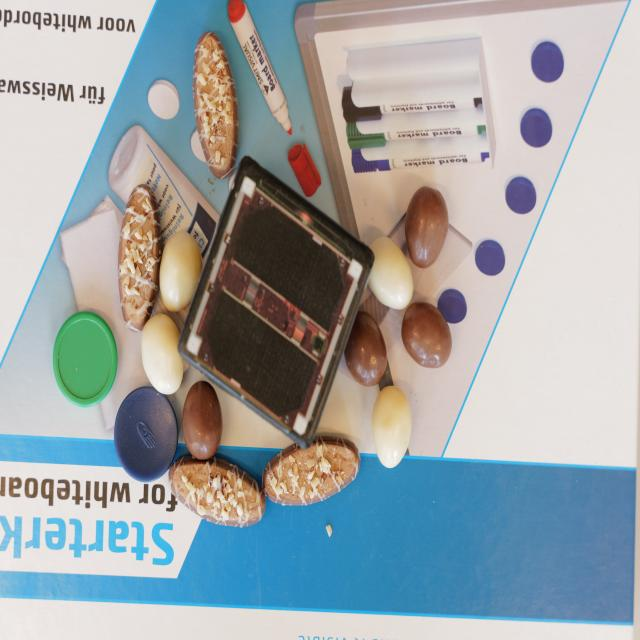Amandina: (193, 30, 240, 180), (265, 434, 359, 504), (120, 183, 162, 333), (173, 456, 263, 525)
Jelly_Milk: (406, 184, 448, 269), (402, 299, 453, 369), (181, 378, 223, 462), (343, 310, 390, 384)
Jelly_White: (367, 235, 414, 310), (142, 309, 183, 394), (160, 229, 203, 309), (373, 384, 411, 470)
